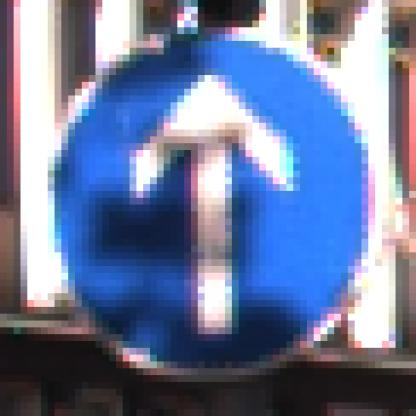AheadOnly: (42, 35, 383, 383)
